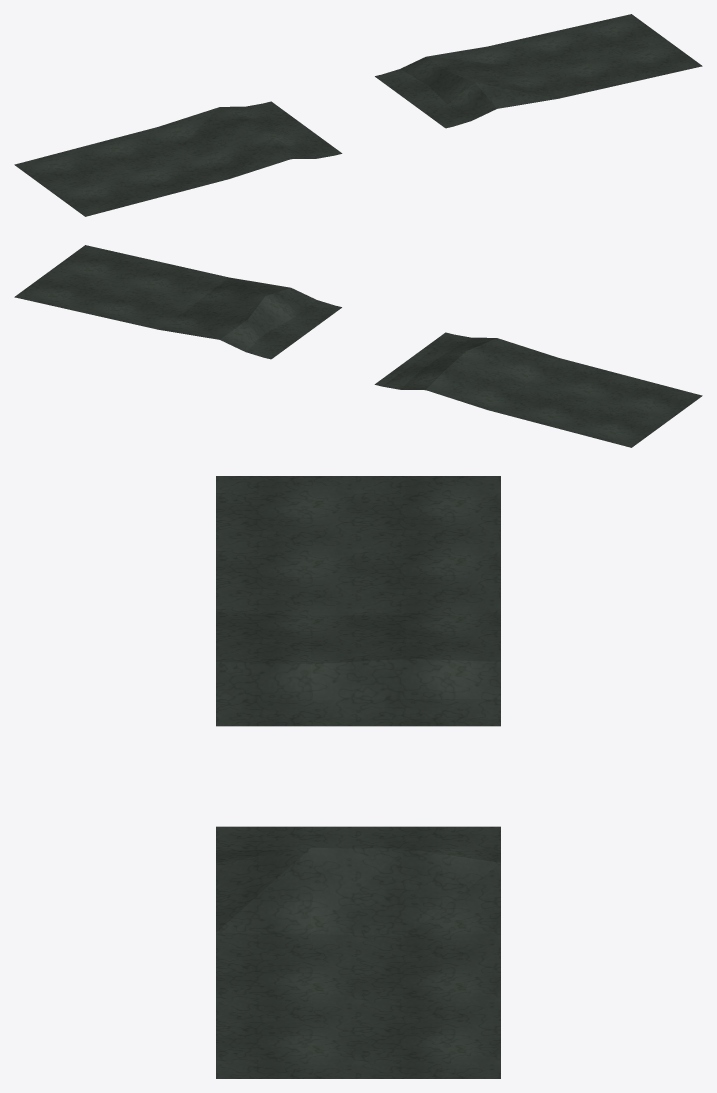
File: shoulder_2.glb
3 renders of one model, top to bottom at view 1: azimuth 30°, elevation 25°; view 2: azimuth 150°, elevation 25°; view 3: azimuth 270°, elevation 25°, orthographic. The views are drawn at different scales.
Visible parts, largest first — view 1: Stone_Shoulders_2; view 2: Stone_Shoulders_2; view 3: Stone_Shoulders_2.
Part boxes in pixels (<box>): Stone_Shoulders_2: <box>14,14,702,216</box>; Stone_Shoulders_2: <box>14,245,702,447</box>; Stone_Shoulders_2: <box>216,476,500,1078</box>.
Size of the model in its own units: 60 by 1.48 by 12.
1 material, 1 textured.
